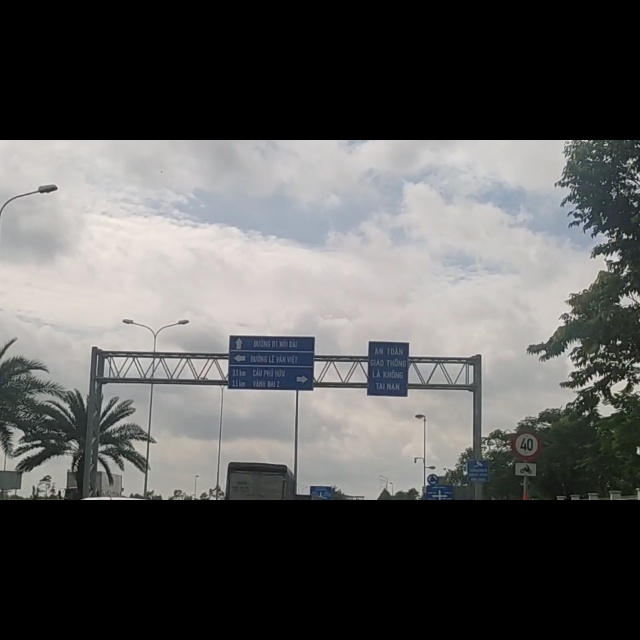bien_chi_dan: (511, 518, 541, 568), (512, 569, 541, 603)
